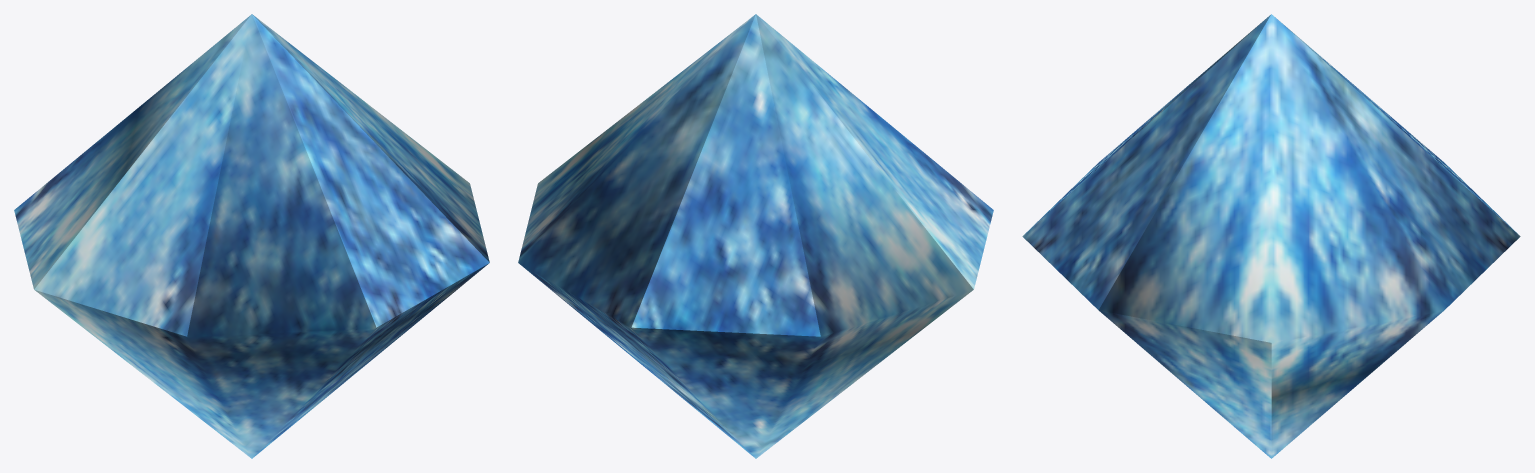
File: Item0903.FBX
The picture shows the model from 3 angles, left to right: view 1: azimuth 30°, elevation 25°; view 2: azimuth 150°, elevation 25°; view 3: azimuth 270°, elevation 25°; orthographic projection.
Parts seen in each view (by area): view 1: Box02; view 2: Box02; view 3: Box02.
Boxes of the visible parts, x1,y1,x2,y2 form: Box02: (14,14,489,458); Box02: (518,14,993,458); Box02: (1022,14,1520,458).
Size of the model in its own units: 15.15 by 14.78 by 15.
2 materials, 2 textured.
